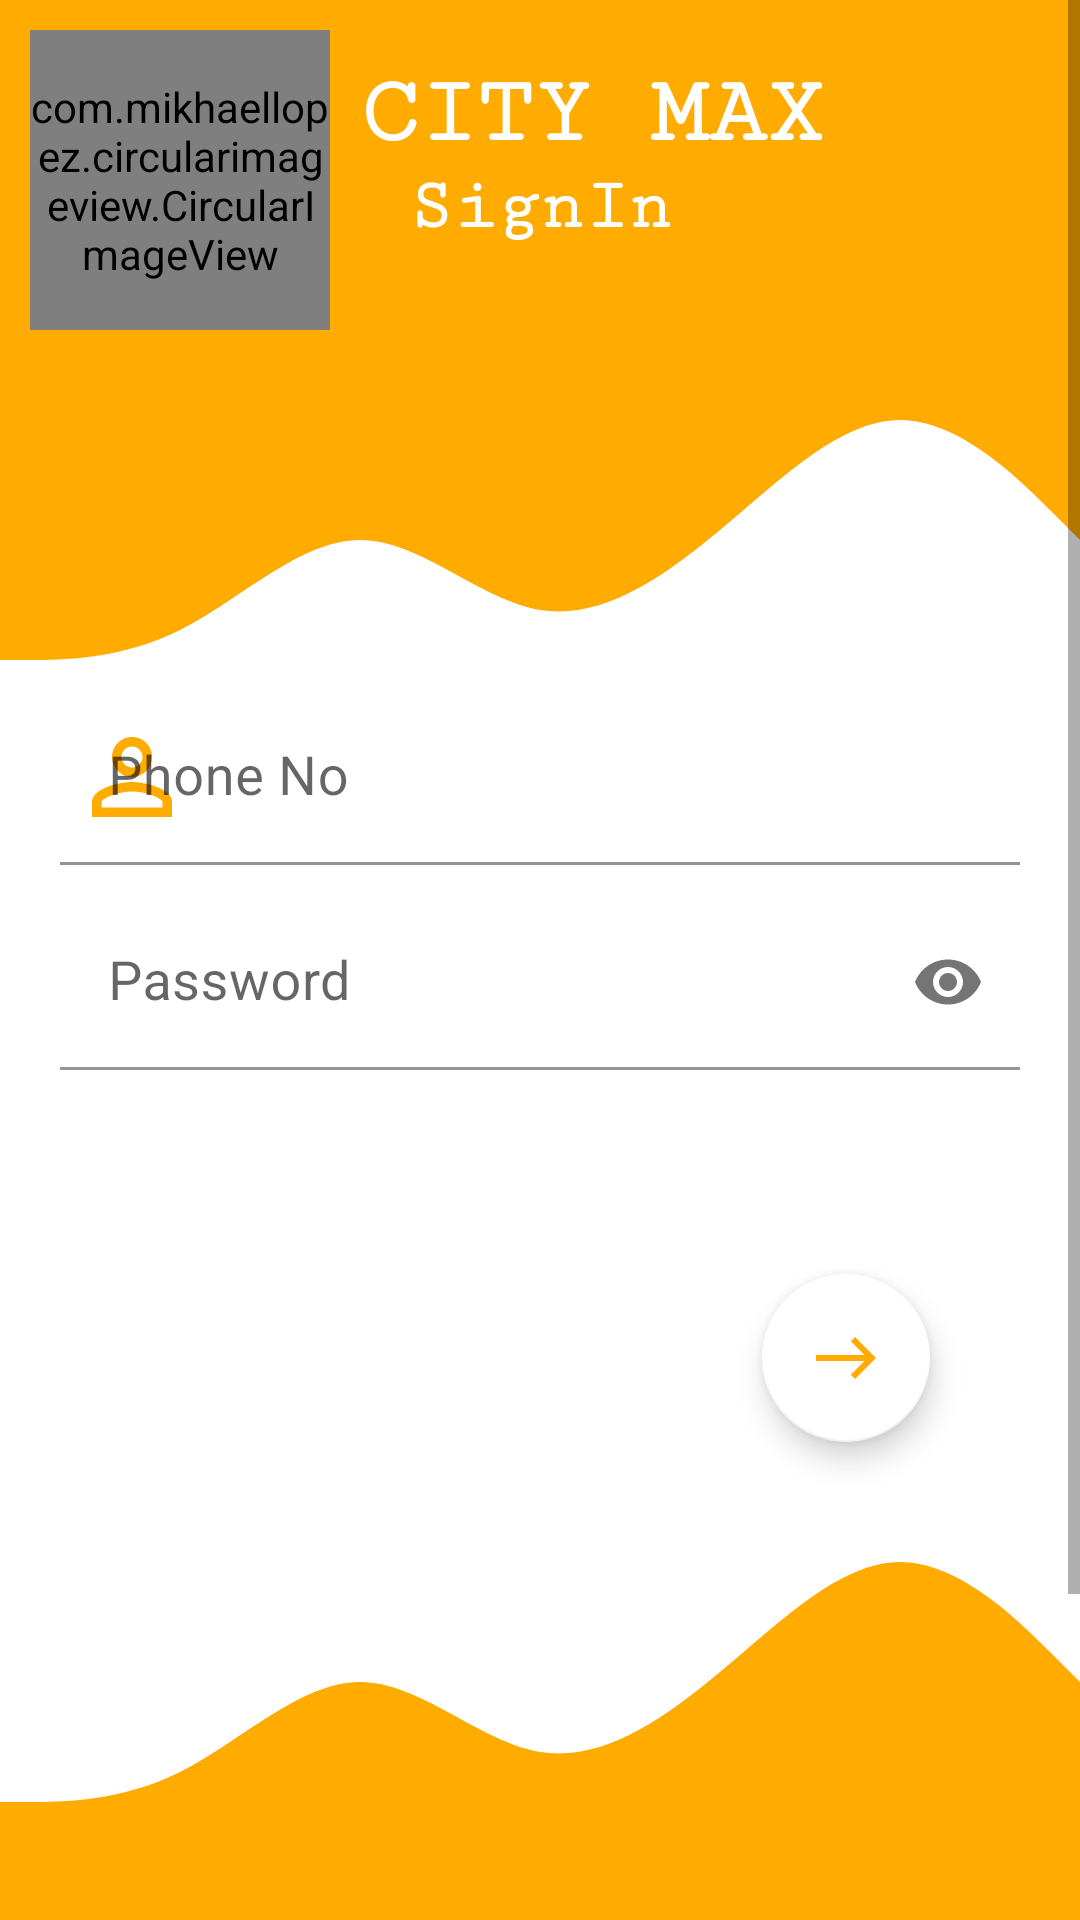

Icons on this 1080×1920 Android screen, each with the point to tap as [x,y]:
east: [848,1389]
